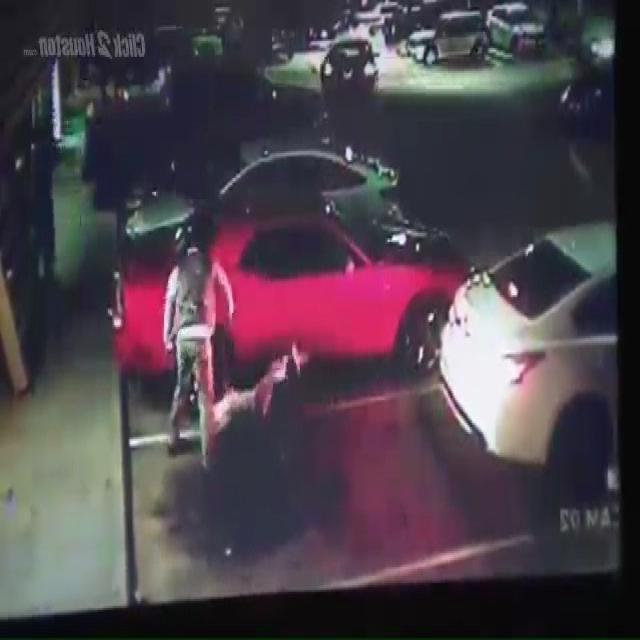fight: (161, 221, 303, 470)
